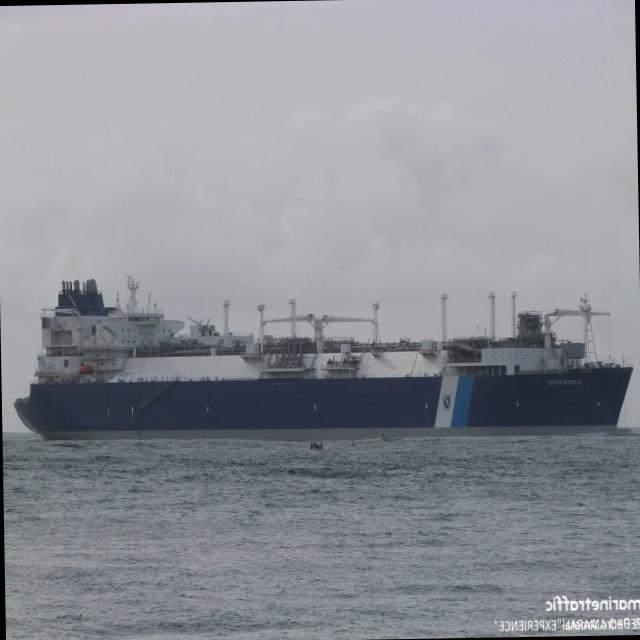Tanker: (14, 278, 632, 440)
